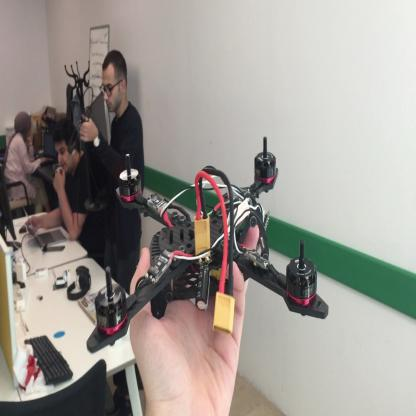drone: (82, 138, 341, 353)
